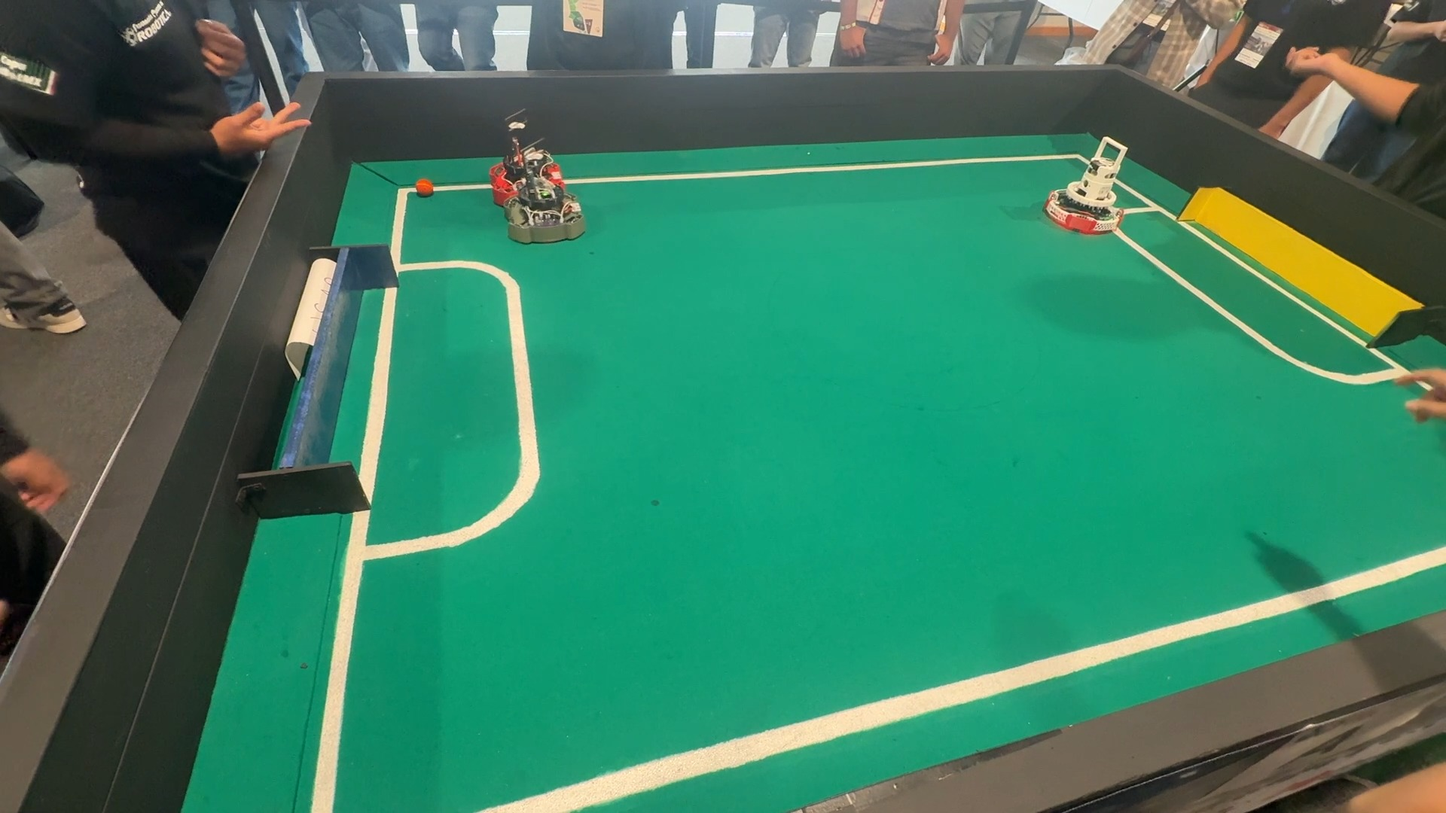Robot: (1038, 130, 1149, 243), (509, 151, 581, 249), (482, 125, 568, 193)
pelota: (410, 178, 439, 196)
